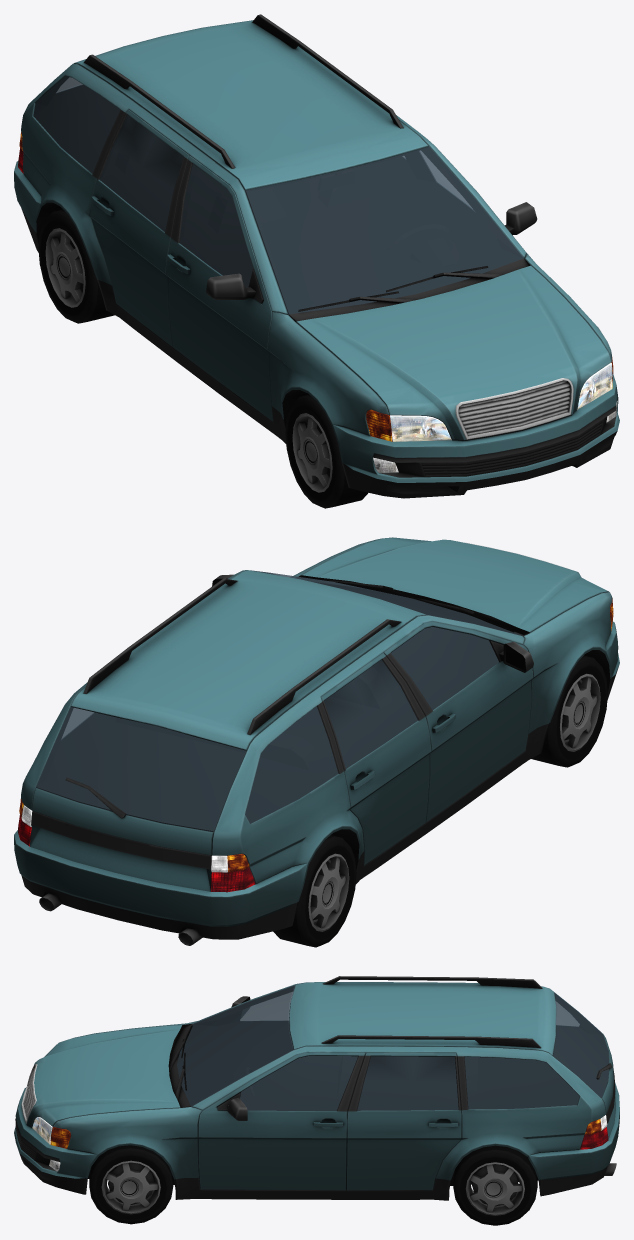
Rendered from road-wagon.glb.
3 renders of one model, top to bottom at view 1: azimuth 30°, elevation 25°; view 2: azimuth 150°, elevation 25°; view 3: azimuth 270°, elevation 25°, orthographic. The views are drawn at different scales.
Parts seen in each view (by area): view 1: Body, Wheel_FR, Wheel_RR; view 2: Body, Wheel_RR, Wheel_FR; view 3: Body, Wheel_RL, Wheel_FL.
Part boxes in pixels (<box>): Body: <box>14,14,619,498</box>; Wheel_FR: <box>285,394,368,508</box>; Wheel_RR: <box>38,209,114,323</box>; Body: <box>14,537,619,945</box>; Wheel_RR: <box>273,835,356,947</box>; Wheel_FR: <box>531,655,607,767</box>; Body: <box>14,976,619,1200</box>; Wheel_RL: <box>453,1145,537,1225</box>; Wheel_FL: <box>89,1145,173,1224</box>.
Size of the model in its own units: 2.16 by 1.53 by 4.85.
Materials: 5 (4 with a texture image).
